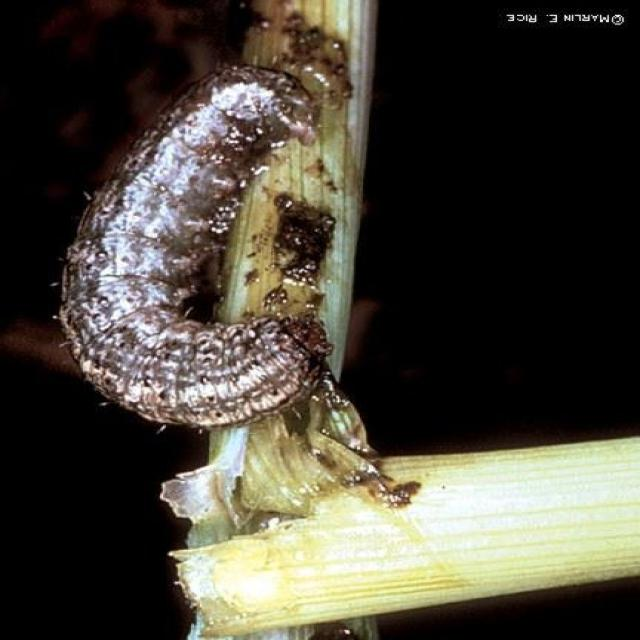black cutworm: (48, 54, 346, 431)
